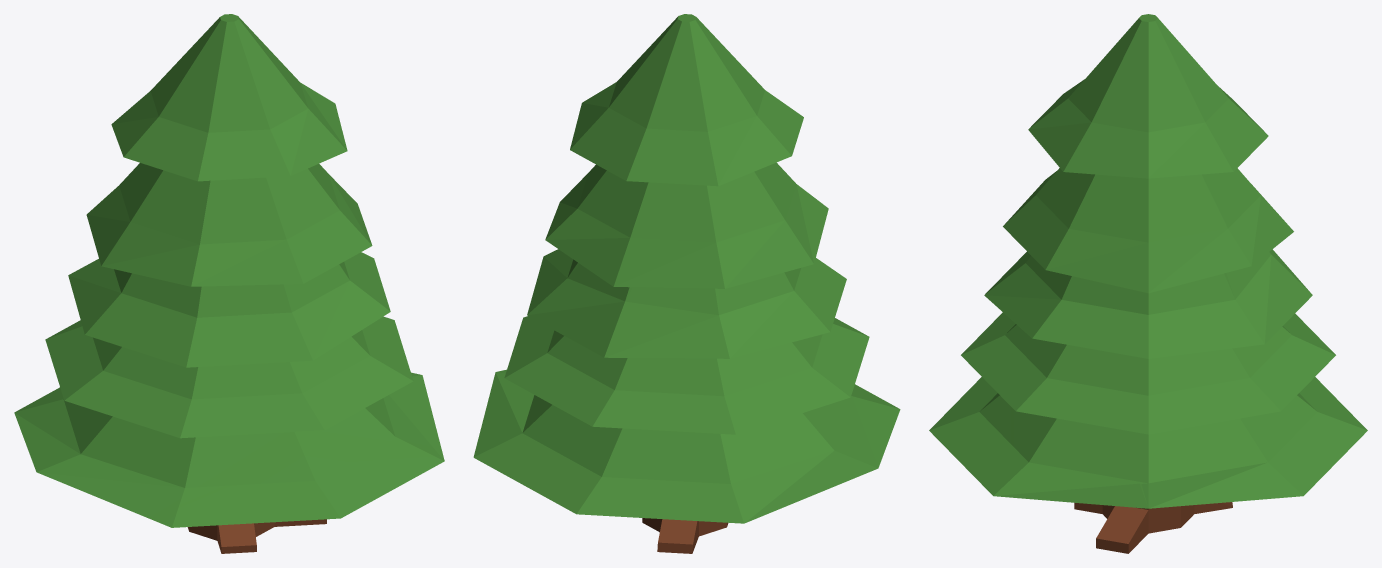
File: Ptree1.fbx
The picture shows the model from 3 angles, left to right: view 1: azimuth 30°, elevation 25°; view 2: azimuth 150°, elevation 25°; view 3: azimuth 270°, elevation 25°; orthographic projection.
Visible parts, largest first — view 1: pCylinder3; view 2: pCylinder3; view 3: pCylinder3.
Part boxes in pixels (x1,y1,x2,y2): pCylinder3: (14,14,444,553); pCylinder3: (473,14,900,553); pCylinder3: (929,14,1367,553).
Bounding box in the file's own units: 4.78 × 5.96 × 4.78.
Materials: 1 (1 with a texture image).
